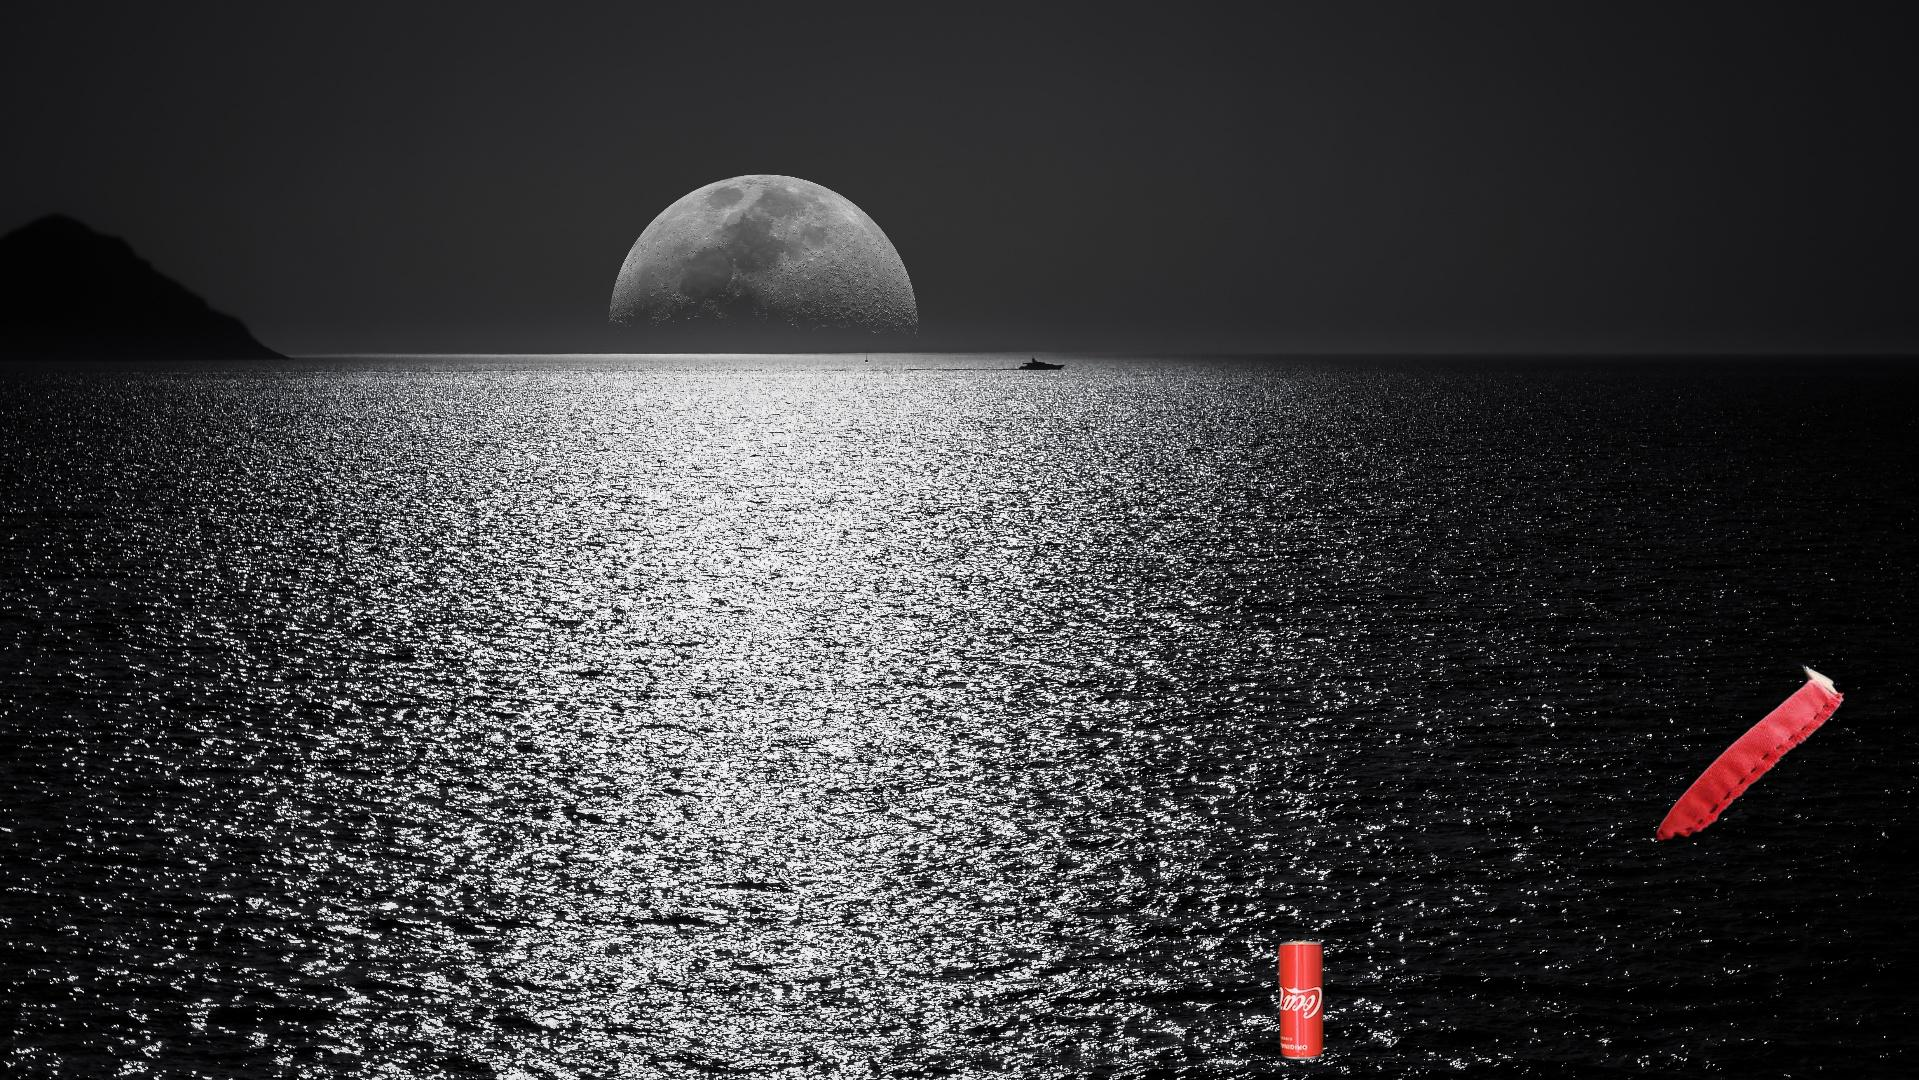metal-cans: (1273, 935, 1329, 1065)
penholder: (3, 1071, 460, 1080)
shoes: (1653, 655, 1847, 844)
